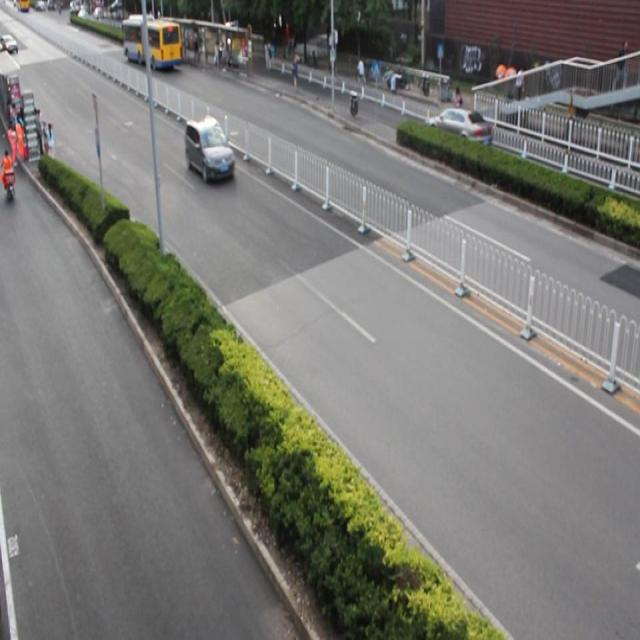car: (426, 108, 491, 163), (185, 118, 236, 185)
